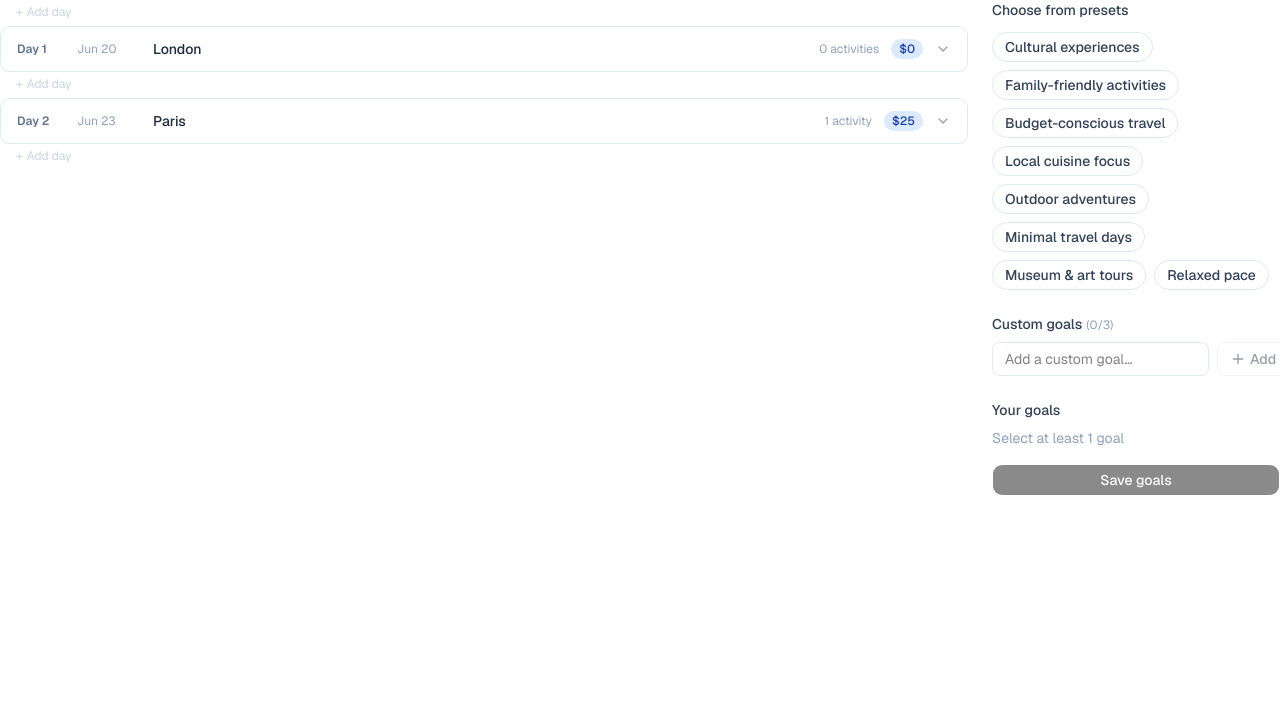
Scenario: Cancel button closes the dialog without removing
Expected: the text "London" is shown, [153,40,202,58]
Click the text "Paris" at x=169, y=121, box [153,112,186,130]
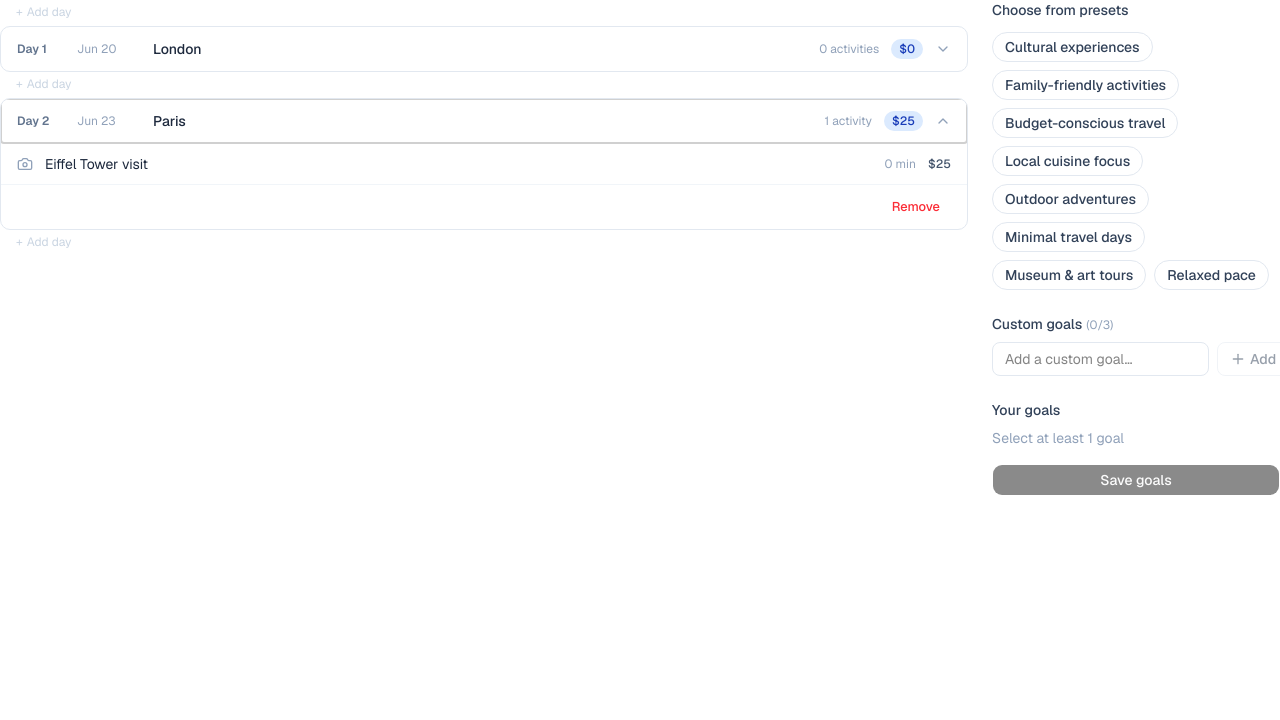
Click the button "Remove" at x=916, y=207, box [881,193,951,221]
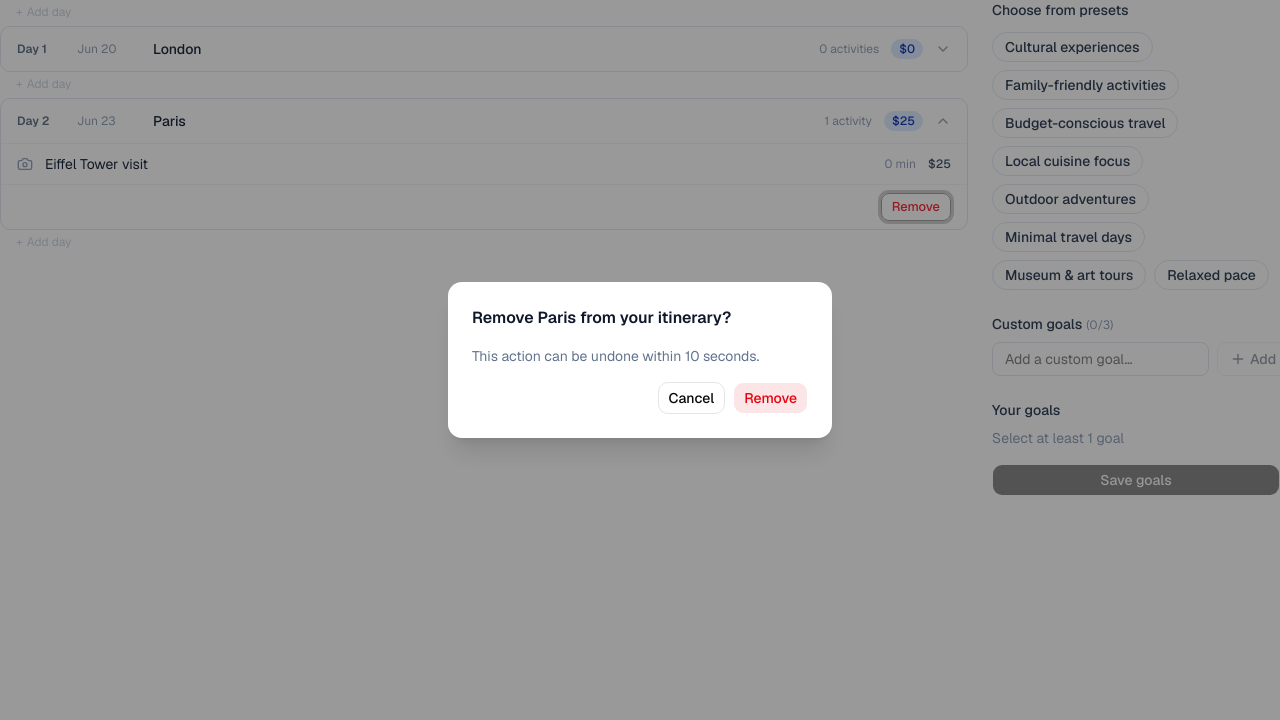
Click the button "Cancel" at x=691, y=398, box [658,382,725,414]
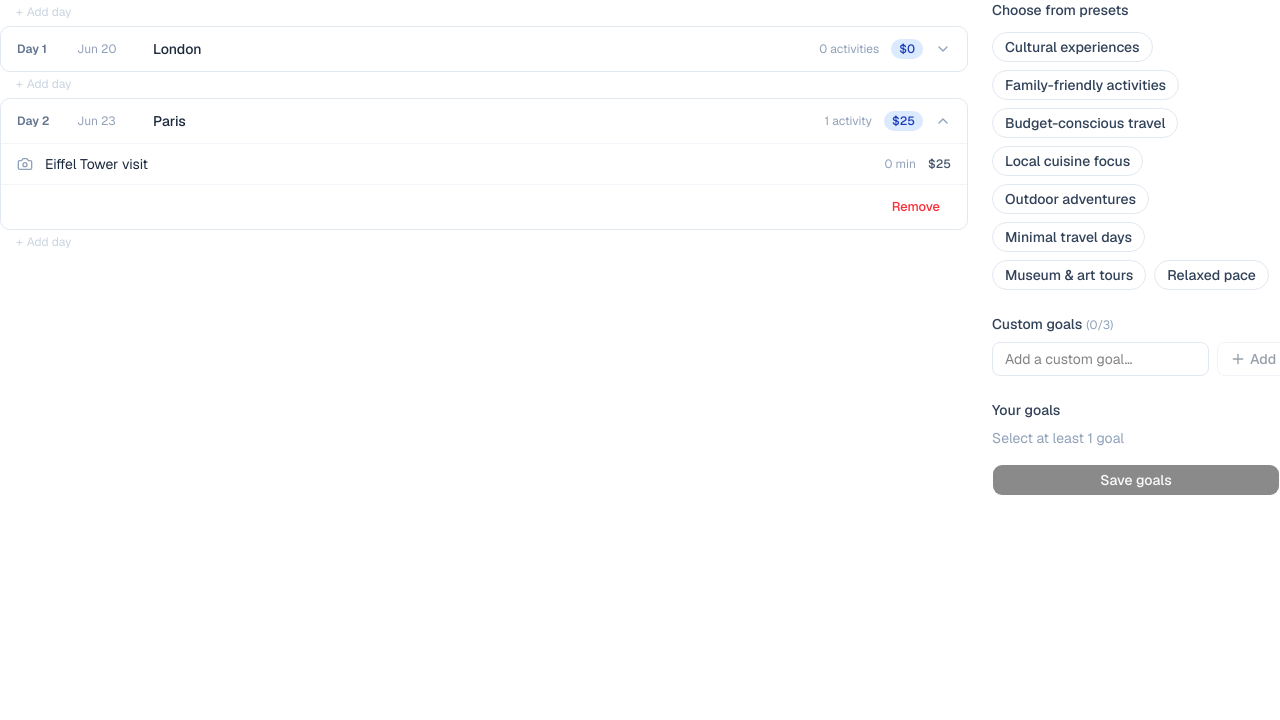
Now the dialog is gone
